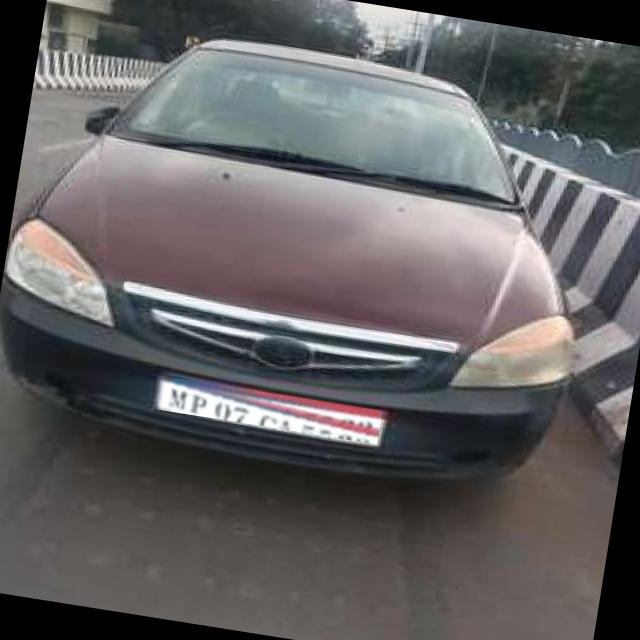Plate: (153, 377, 384, 446)
